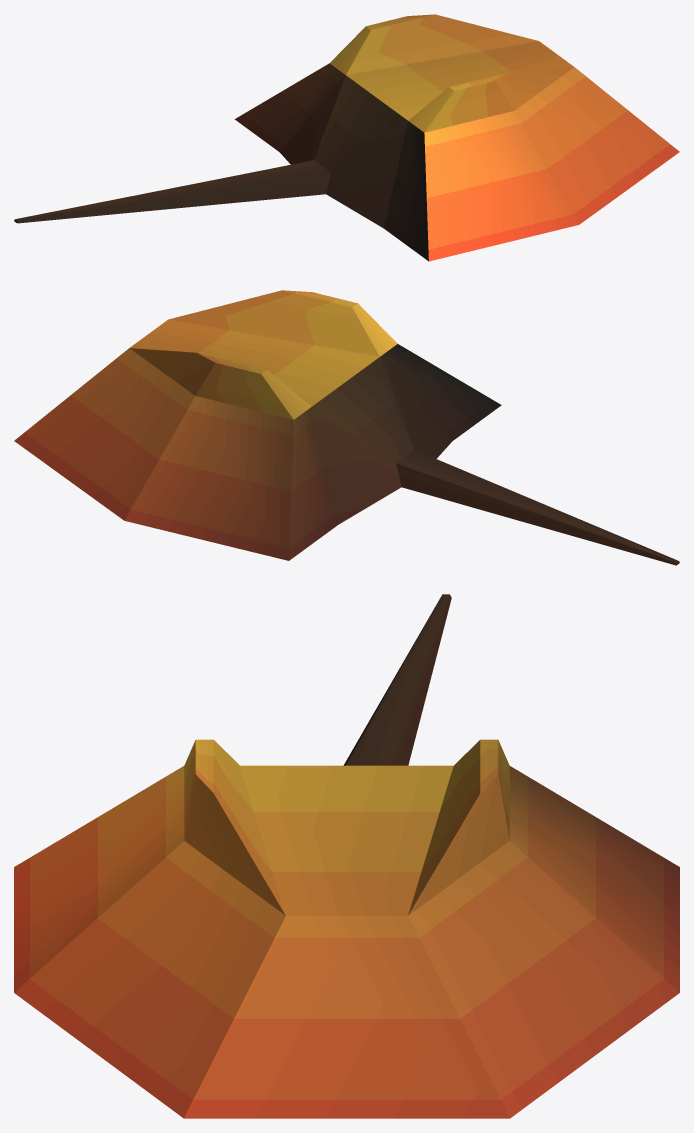
File: HorseshoeCrab.fbx
The picture shows the model from 3 angles, top to bottom: view 1: azimuth 30°, elevation 25°; view 2: azimuth 150°, elevation 25°; view 3: azimuth 270°, elevation 25°; orthographic projection. The views are drawn at different scales.
Visible parts, largest first — view 1: HorseShoeCrabMesh; view 2: HorseShoeCrabMesh; view 3: HorseShoeCrabMesh.
Part boxes in pixels (x1,y1,x2,y2): HorseShoeCrabMesh: [14, 14, 679, 261]; HorseShoeCrabMesh: [14, 290, 679, 565]; HorseShoeCrabMesh: [14, 594, 679, 1118].
Bounding box in the file's own units: 391 × 71.67 × 224.
